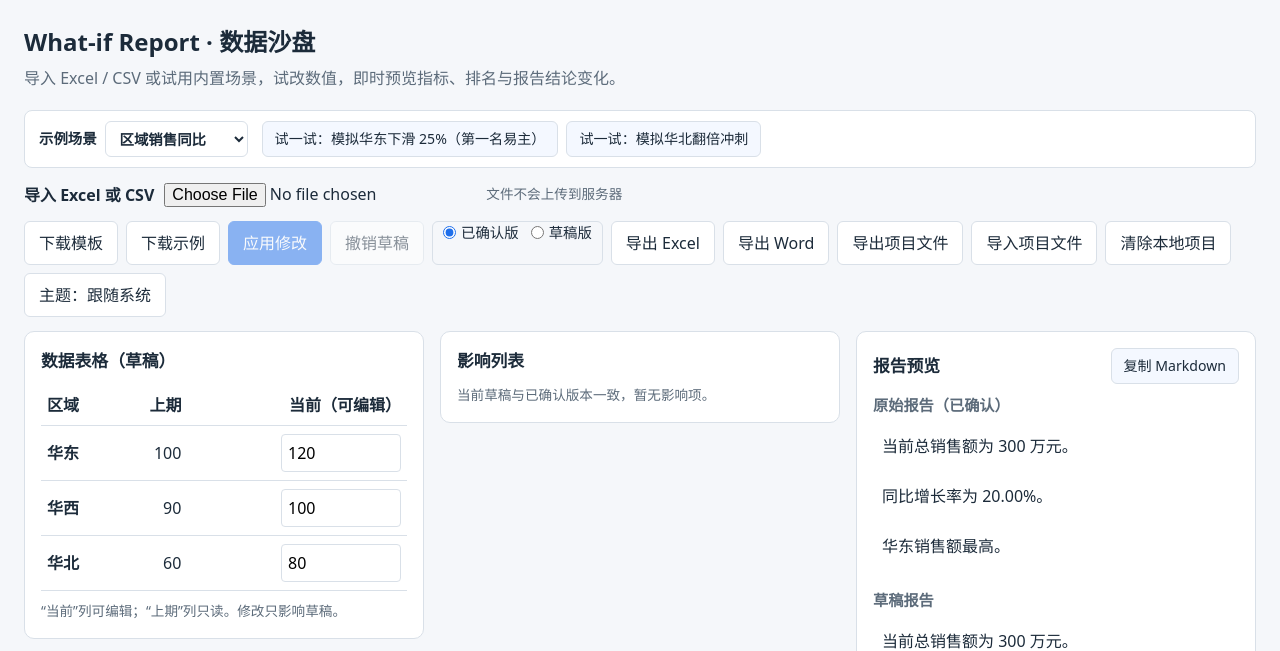
Test: impact preview › reverts the draft back to the confirmed baseline
The width and height of the screenshot is (1280, 651).
Replace the text in the number field named "华东当前销售额" with "90" at (341, 453), box [281,434,401,472]
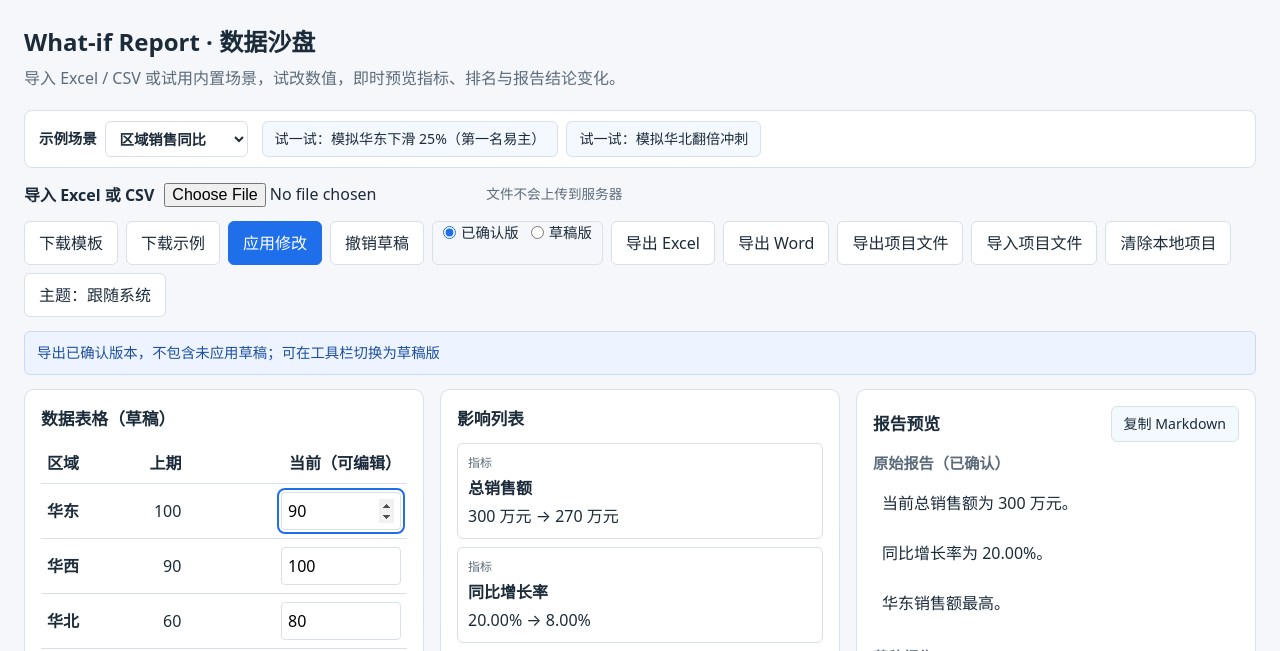
Click the button "撤销草稿" at (377, 243), box [330,221,424,265]
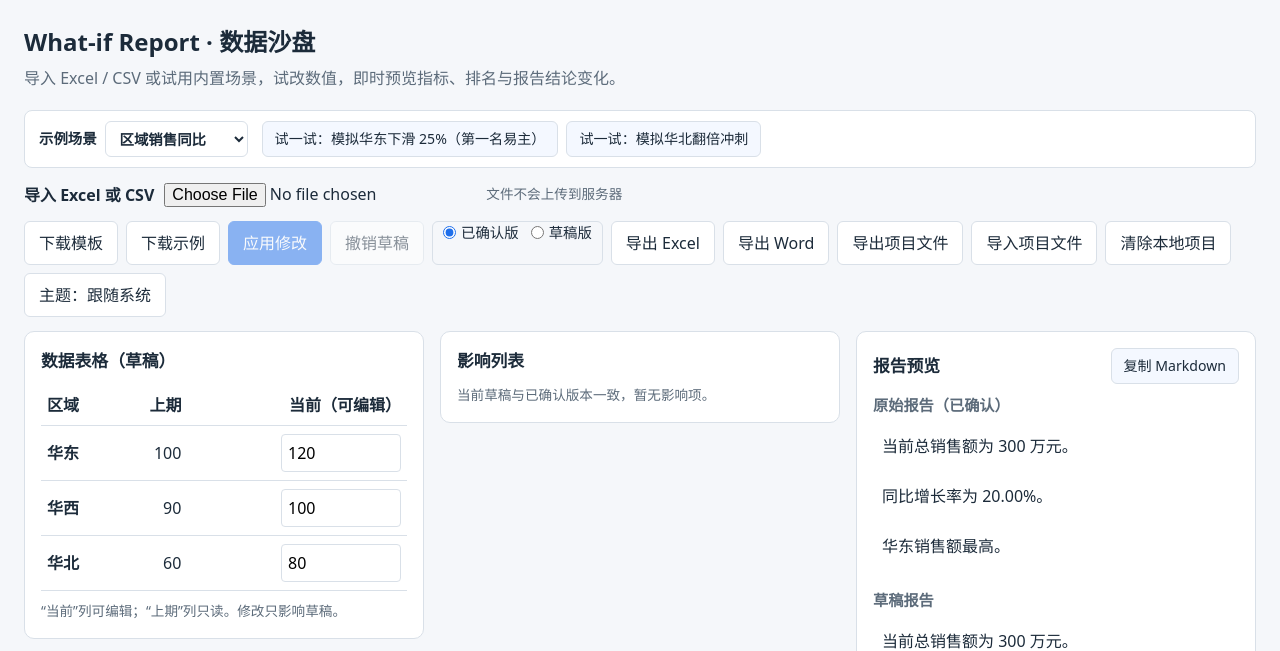
Expected: the number field named "华东当前销售额" holds "120", [281,434,401,472]
Expected: the text "当前草稿与已确认版本一致，暂无影响项。" is shown, [457,385,715,404]
